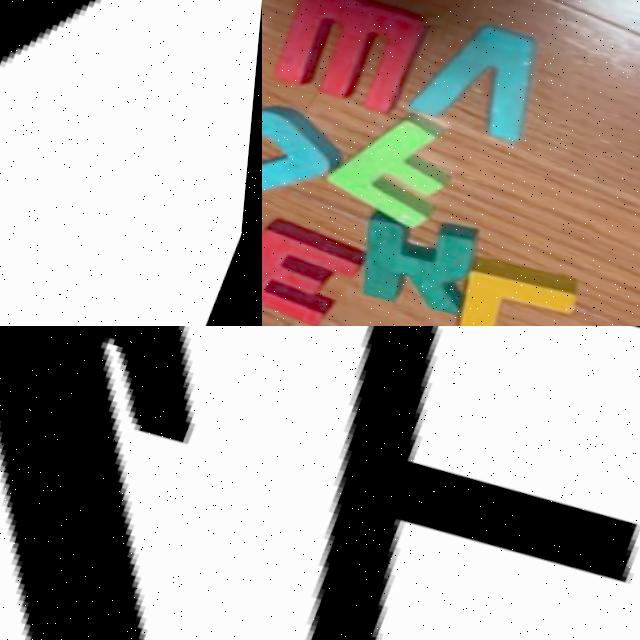E: (319, 326, 640, 640), (262, 209, 379, 326)
F: (306, 98, 471, 242)
J: (262, 93, 362, 227)
K: (0, 0, 231, 326), (341, 194, 509, 326)
L: (450, 250, 605, 326)
V: (408, 2, 563, 152)
W: (262, 0, 440, 123)
Z: (0, 326, 262, 640)
